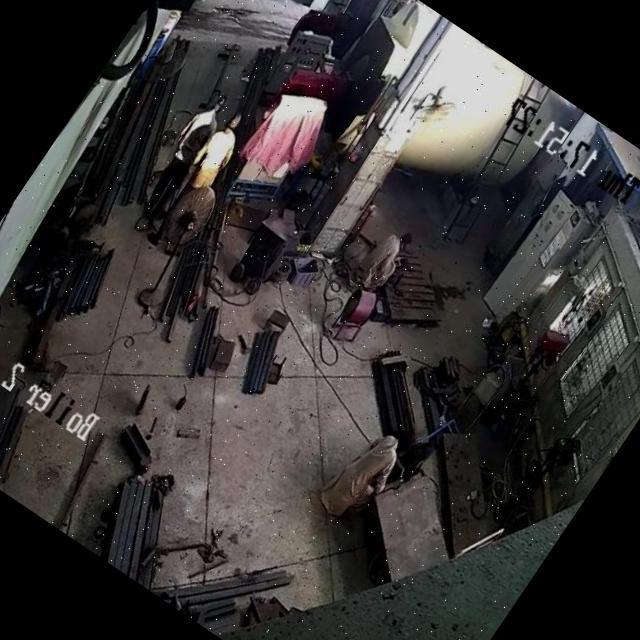person: (145, 102, 258, 254), (128, 85, 239, 228), (314, 408, 424, 536), (348, 220, 418, 301)
